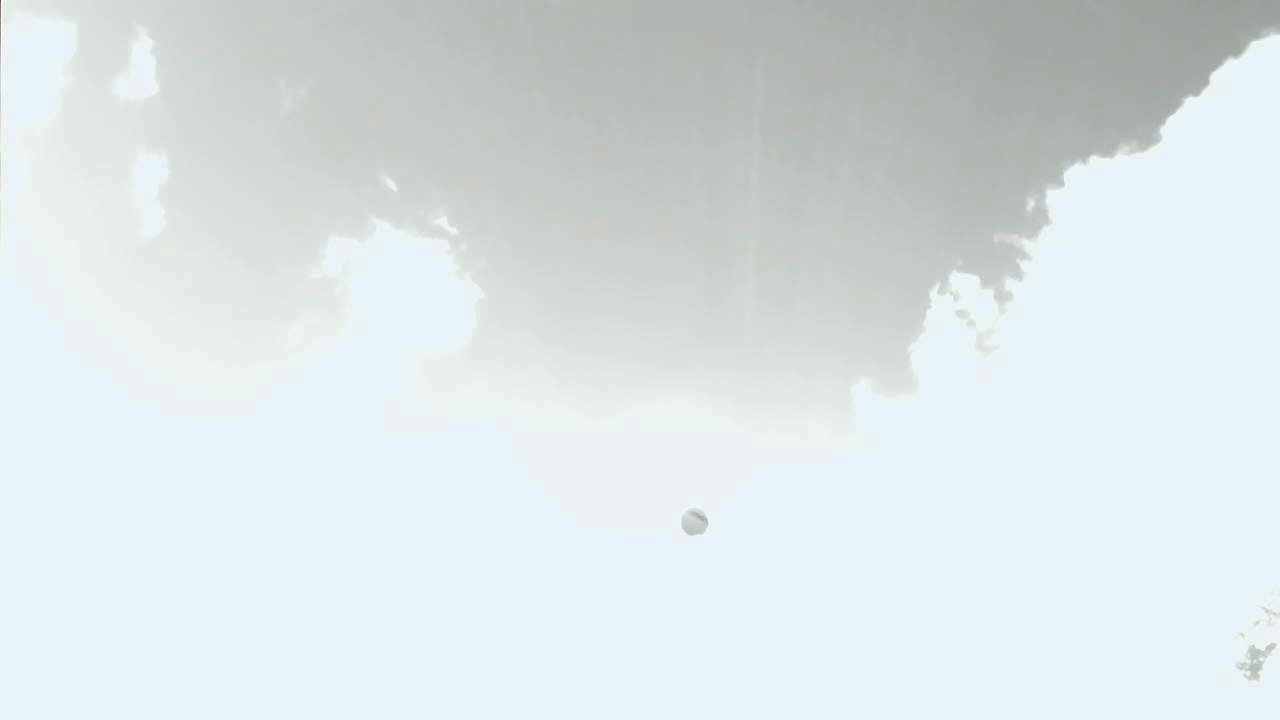Football-Spotter: (681, 508, 708, 534)
